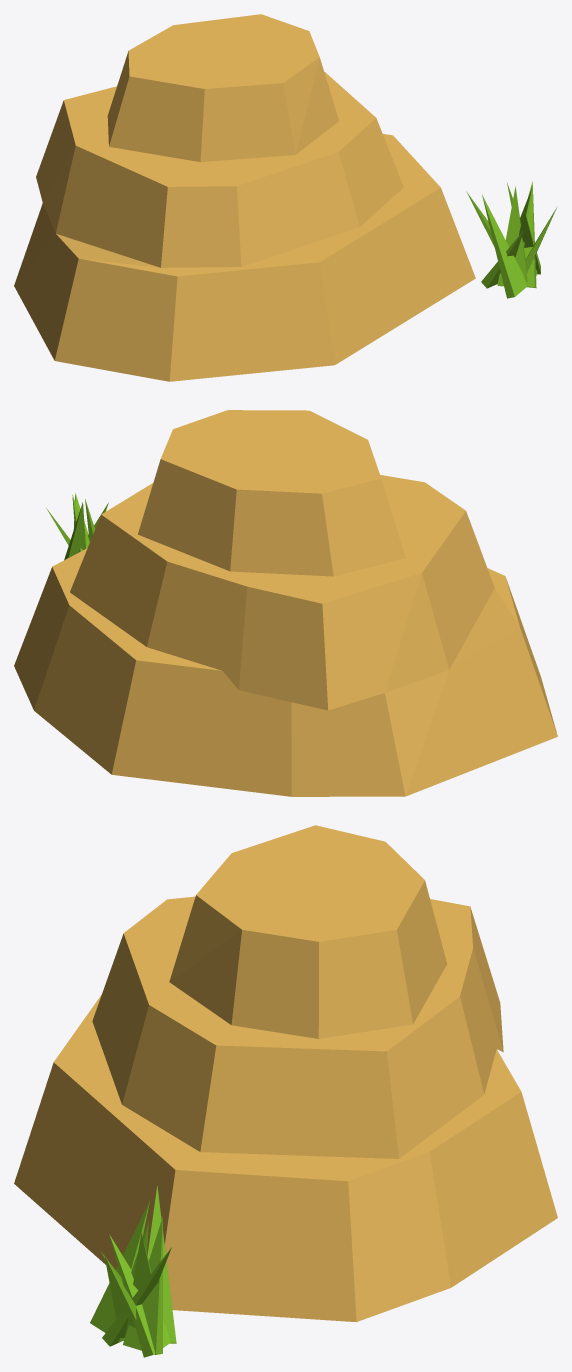
Rendered from Sandstone_Split.fbx.
3 renders of one model, top to bottom at view 1: azimuth 30°, elevation 25°; view 2: azimuth 150°, elevation 25°; view 3: azimuth 270°, elevation 25°, orthographic. The views are drawn at different scales.
Visible parts, largest first — view 1: Sandstone_PieceA, Sandstone_PieceB, Sandstone_Grass; view 2: Sandstone_PieceA, Sandstone_PieceB, Sandstone_Grass; view 3: Sandstone_PieceB, Sandstone_PieceA, Sandstone_Grass.
Boxes of the visible parts, x1=… form: Sandstone_PieceA: x1=14, y1=23, x2=339, y2=381; Sandstone_PieceB: x1=188, y1=14, x2=475, y2=361; Sandstone_Grass: x1=466, y1=181, x2=557, y2=298; Sandstone_PieceA: x1=172, y1=415, x2=557, y2=796; Sandstone_PieceB: x1=14, y1=410, x2=318, y2=781; Sandstone_Grass: x1=46, y1=493, x2=108, y2=560; Sandstone_PieceB: x1=19, y1=888, x2=557, y2=1322; Sandstone_PieceA: x1=14, y1=825, x2=506, y2=1187; Sandstone_Grass: x1=90, y1=1186, x2=176, y2=1357.
Bounding box in the file's own units: 8.98 × 4.34 × 6.91.
